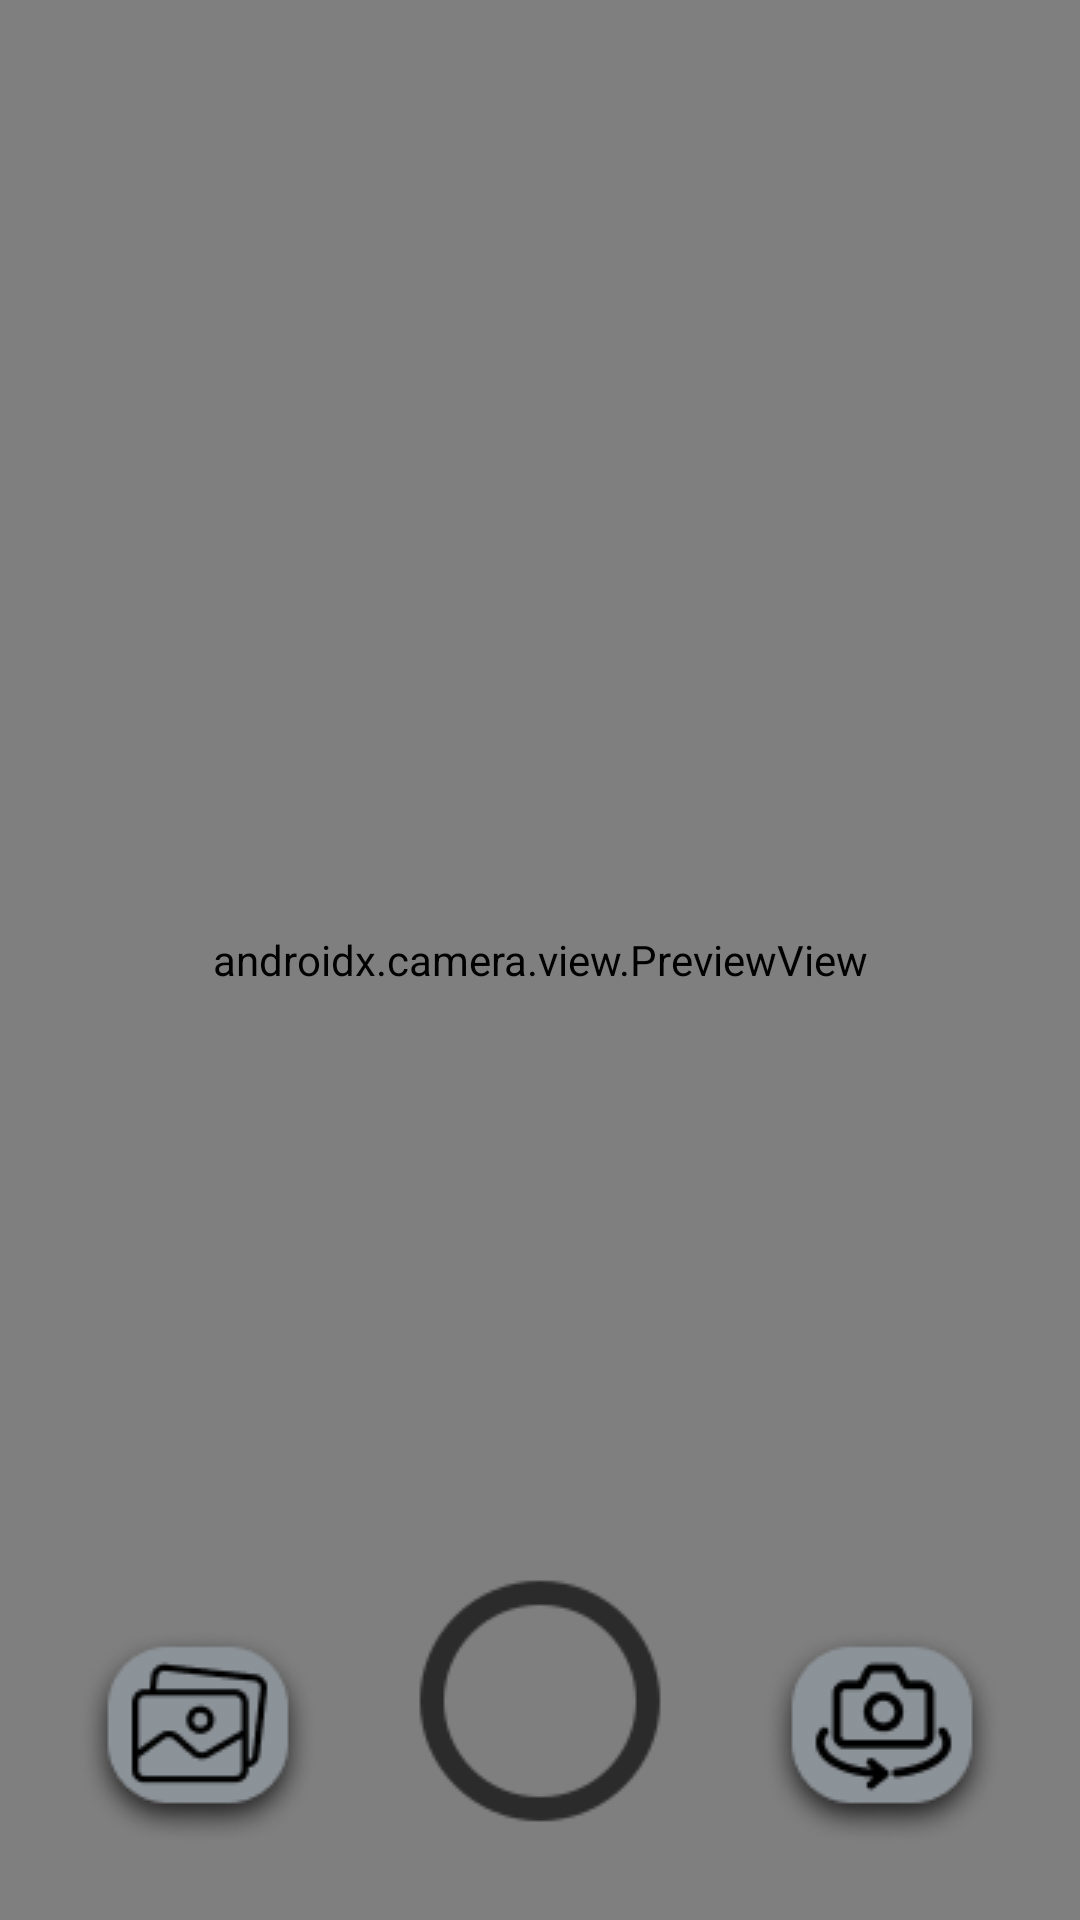

Icon bounding boxes for this 1080*1920 phone screenshot, format box(x1, y1, x2, y2):
galery: box(99, 1648, 297, 1824)
rotation: box(783, 1648, 981, 1824)
